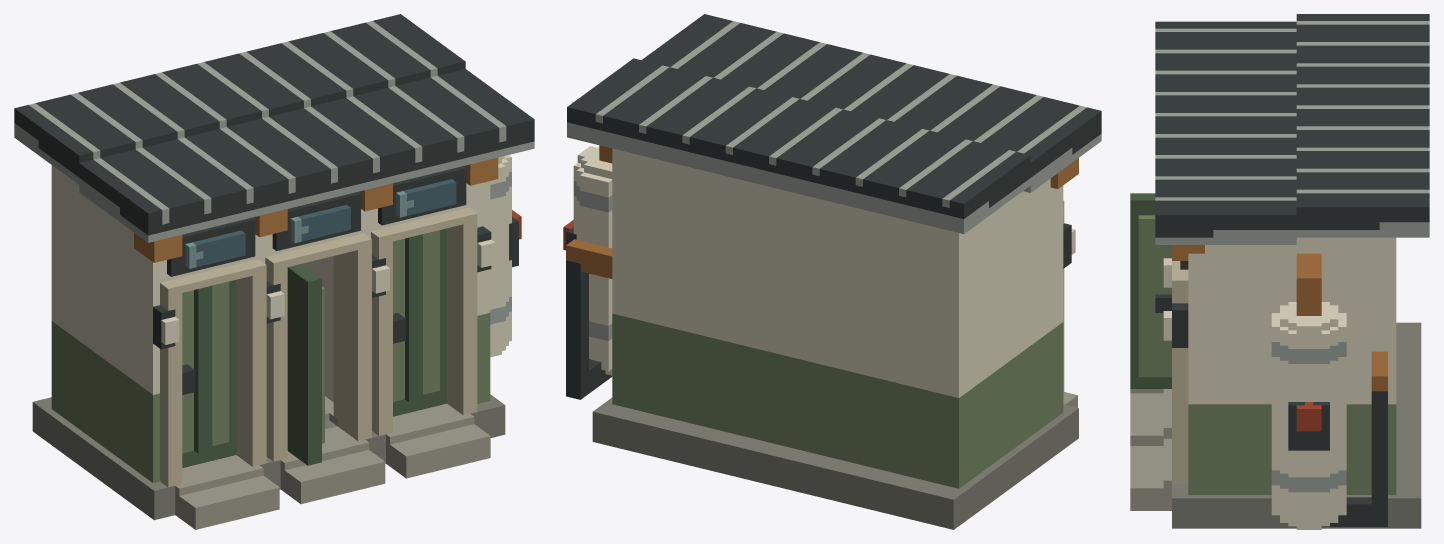
The model's file is shower_block.glb.
3 views of the same model, side by side, from view 1: azimuth 30°, elevation 25°; view 2: azimuth 150°, elevation 25°; view 3: azimuth 270°, elevation 25° (orthographic). The views are drawn at different scales.
Visible parts, largest first — view 1: shower_block; view 2: shower_block; view 3: shower_block.
Boxes of the visible parts, left/top/right/bottom form: shower_block: left=14, top=14, right=534, bottom=529; shower_block: left=563, top=14, right=1101, bottom=529; shower_block: left=1130, top=14, right=1429, bottom=529.
Bounding box in the file's own units: 6.3 × 4.4 × 3.6.
